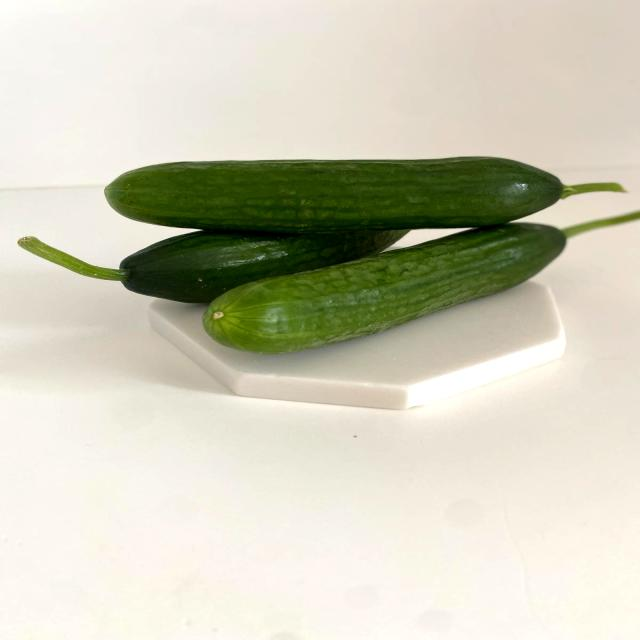cucumber: (200, 205, 640, 363), (79, 126, 626, 230)
